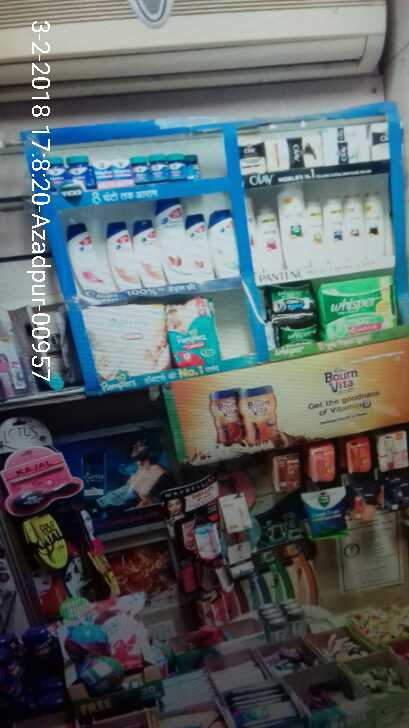vicks: (48, 153, 206, 195)
